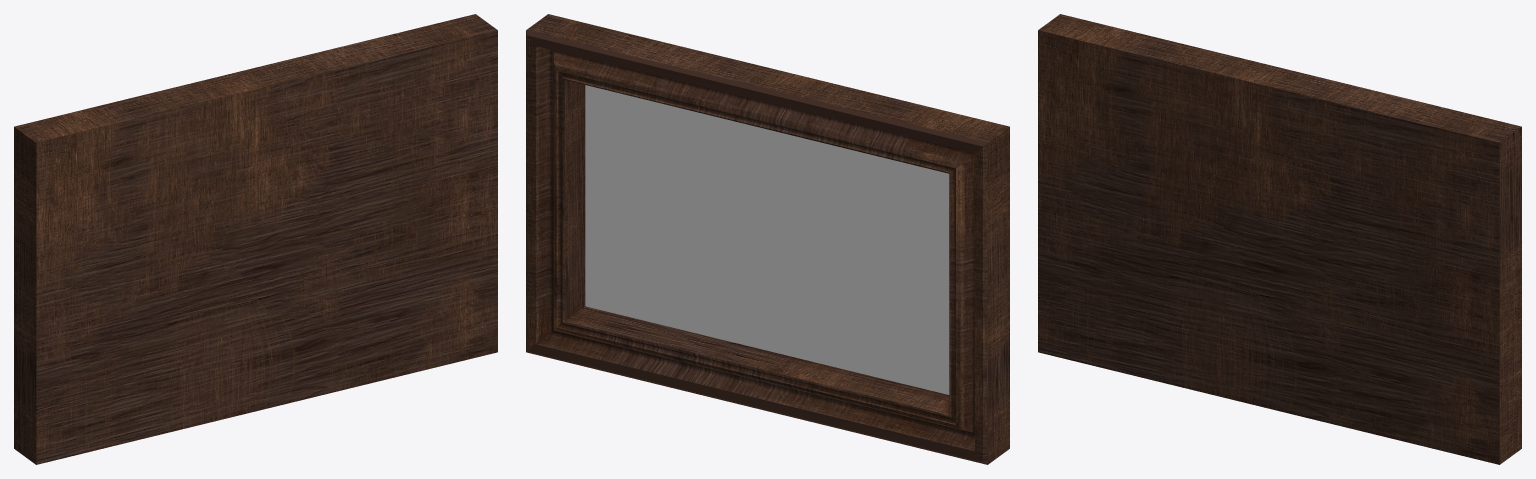
3 renders of one model, left to right at view 1: azimuth 30°, elevation 25°; view 2: azimuth 150°, elevation 25°; view 3: azimuth 330°, elevation 25°, orthographic.
Visible parts, largest first — view 1: Symmetry_1; view 2: Symmetry_1; view 3: Symmetry_1.
Boxes of the visible parts, <box> form: Symmetry_1: <box>14,14,497,464</box>; Symmetry_1: <box>526,14,1009,464</box>; Symmetry_1: <box>1038,14,1521,464</box>.
Bounding box in the file's own units: 2 × 1.33 × 0.18.
Materials: 1 (1 with a texture image).
